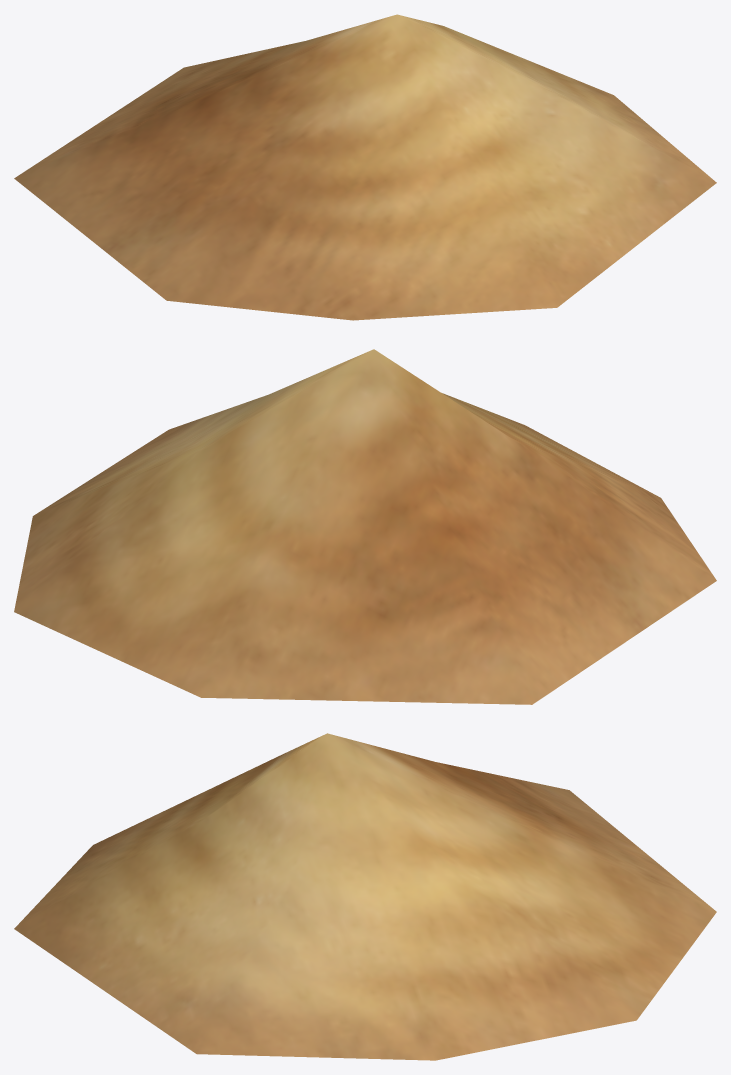
The model's file is shaqiu01.FBX.
3 views of the same model, one above another, from view 1: azimuth 30°, elevation 25°; view 2: azimuth 150°, elevation 25°; view 3: azimuth 270°, elevation 25° (orthographic). The views are drawn at different scales.
Visible parts, largest first — view 1: shaqiu01; view 2: shaqiu01; view 3: shaqiu01.
Part boxes in pixels (x1,y1,x2,y2): shaqiu01: [14, 14, 716, 320]; shaqiu01: [14, 349, 716, 704]; shaqiu01: [14, 733, 716, 1060].
Size of the model in its own units: 157 by 50.8 by 169.
